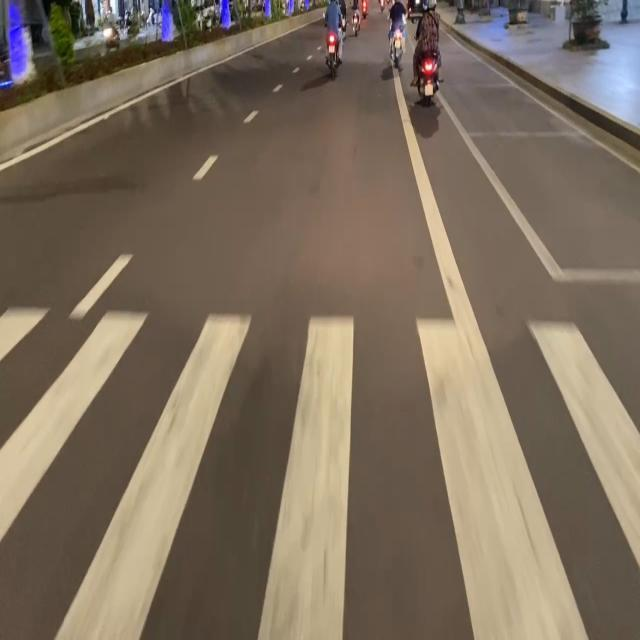walk-crossing: (1, 302, 640, 639)
